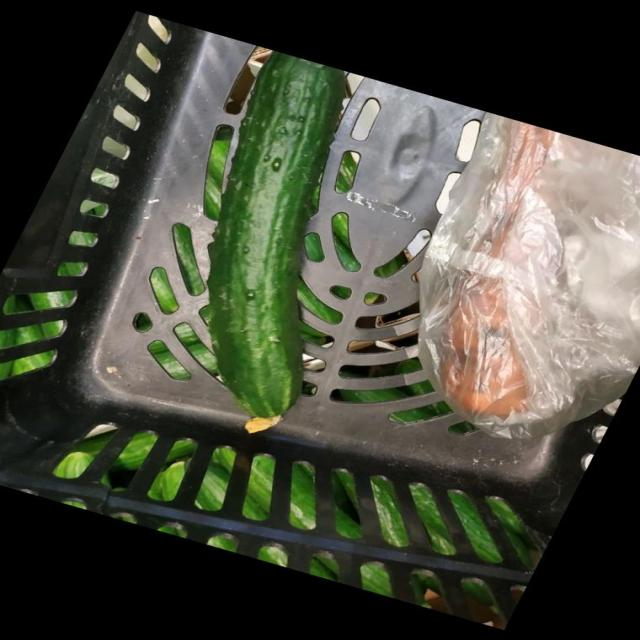carrot: (257, 183, 640, 463)
cucumber: (113, 102, 322, 350)
